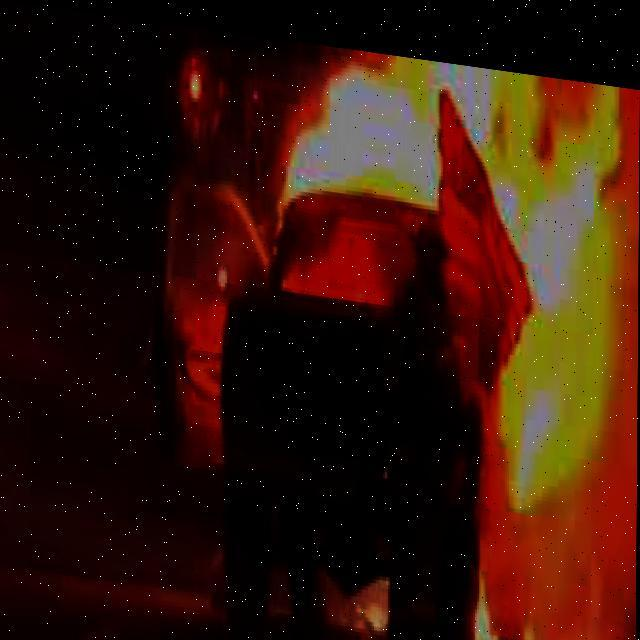Fire: (484, 65, 634, 518), (323, 535, 400, 634), (459, 550, 528, 639)
